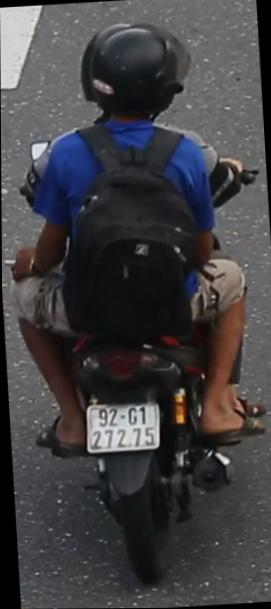LP: (82, 392, 163, 456)
helmet: (77, 13, 196, 140)
